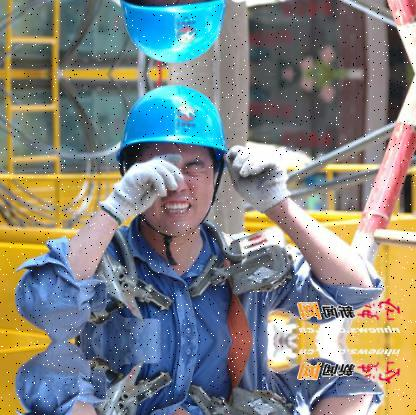helmet: (109, 73, 244, 237), (109, 0, 245, 74)
